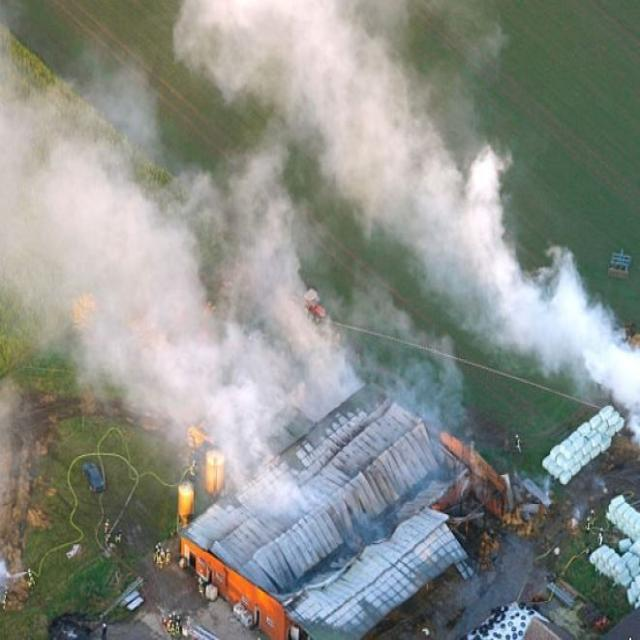Smoke: (0, 98, 353, 494), (196, 4, 416, 176), (366, 126, 541, 333), (528, 271, 640, 412)
